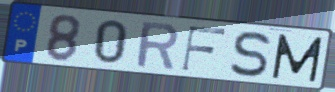0: (92, 18, 132, 65)
8: (45, 13, 83, 63)
F: (179, 25, 229, 73)
M: (270, 32, 326, 84)
R: (135, 20, 181, 72)
S: (228, 30, 273, 79)
